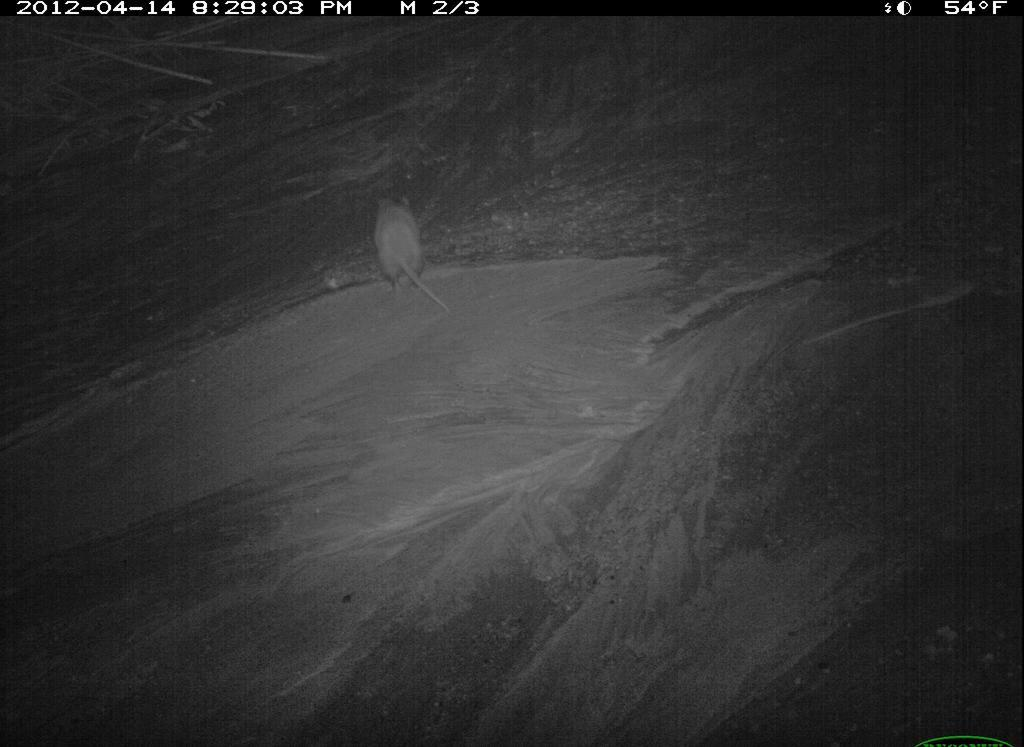opossum: (736, 374, 920, 653)
